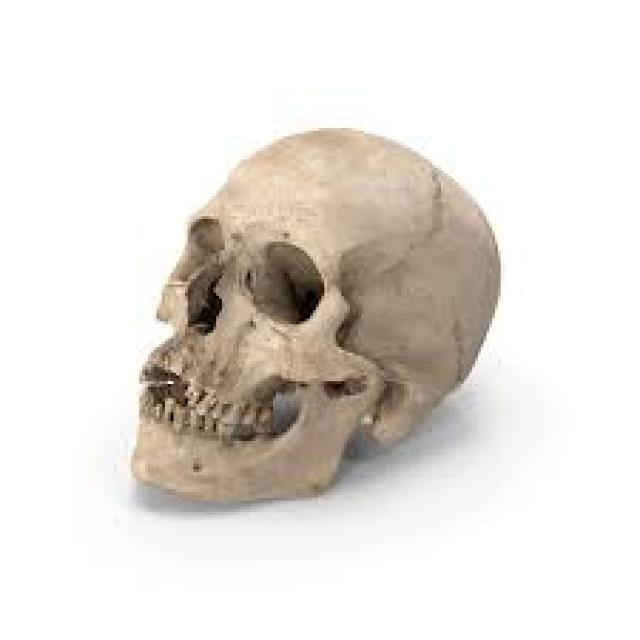skull: (129, 110, 502, 520)
